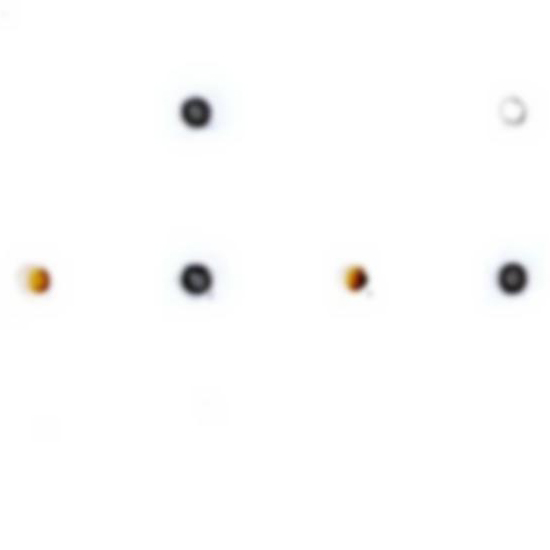abnormal: (482, 81, 549, 144)
cancer: (163, 71, 251, 146), (477, 251, 546, 321), (164, 250, 233, 317)
normal: (313, 231, 397, 315), (10, 254, 73, 308)
